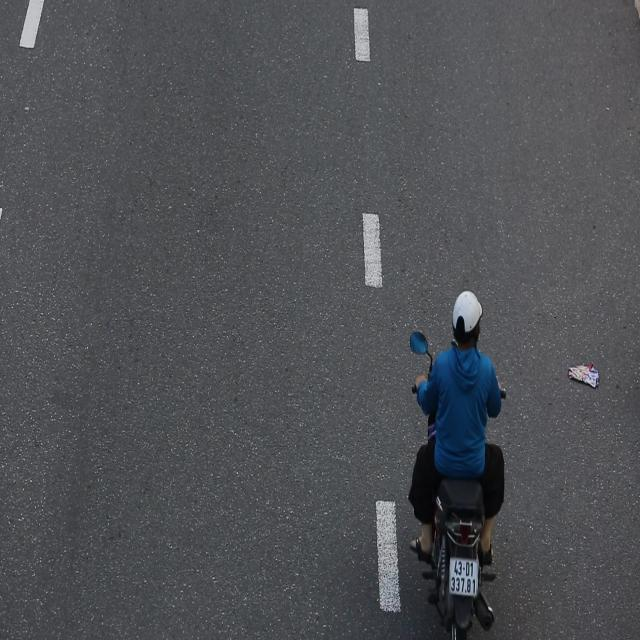motorbike: (400, 272, 510, 640)
